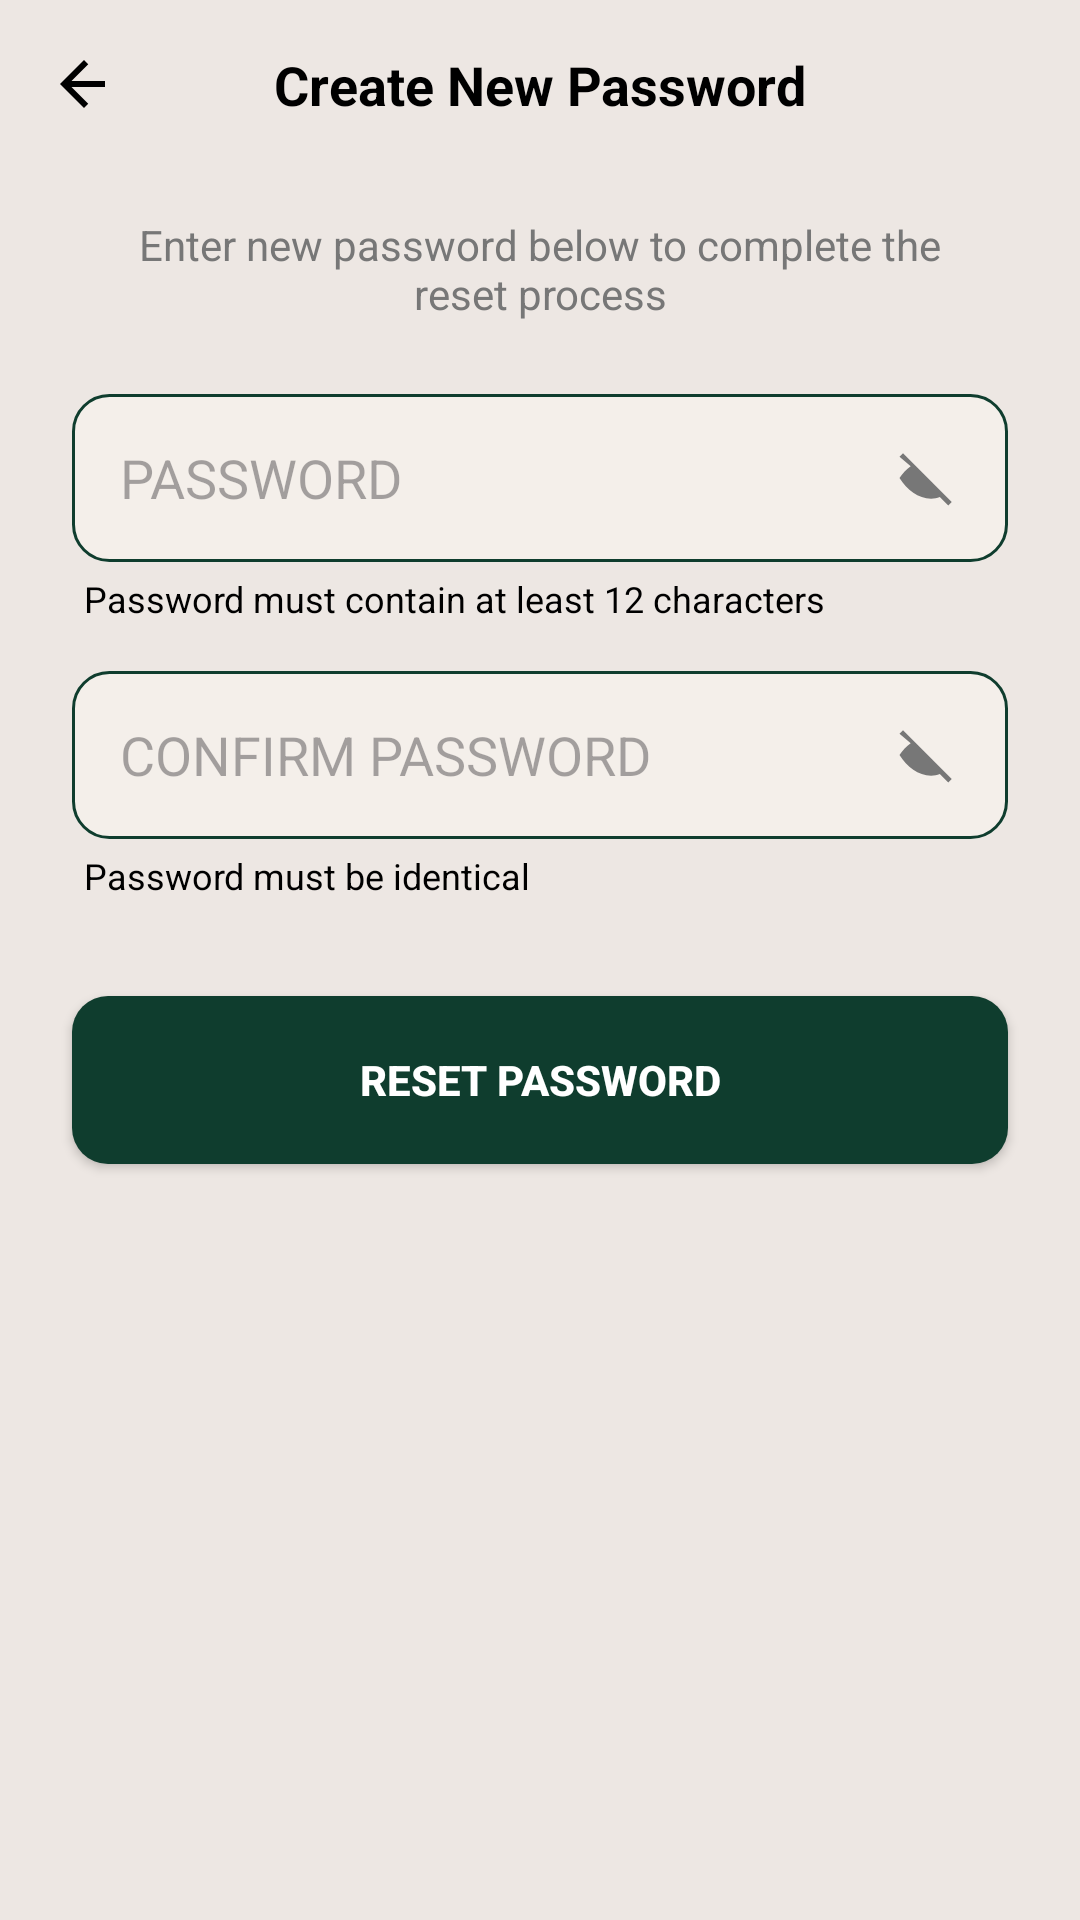

Screen size 1080px x 1920px. Icon name, then its center in pixels as [x,y]:
back: [82,84]
eye off: [925,479], [925,756]
